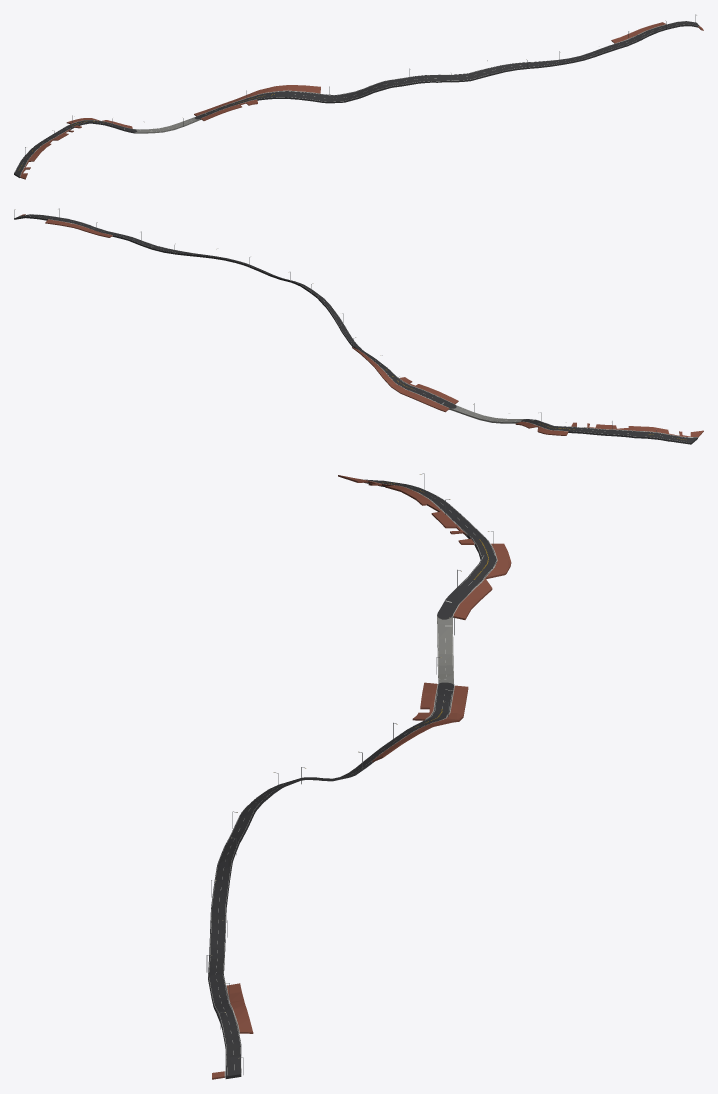
3 views of the same model, one above another, from view 1: azimuth 30°, elevation 25°; view 2: azimuth 150°, elevation 25°; view 3: azimuth 270°, elevation 25° (orthographic). The views are drawn at different scales.
Size of the model in its own units: 588 by 37.38 by 120.
